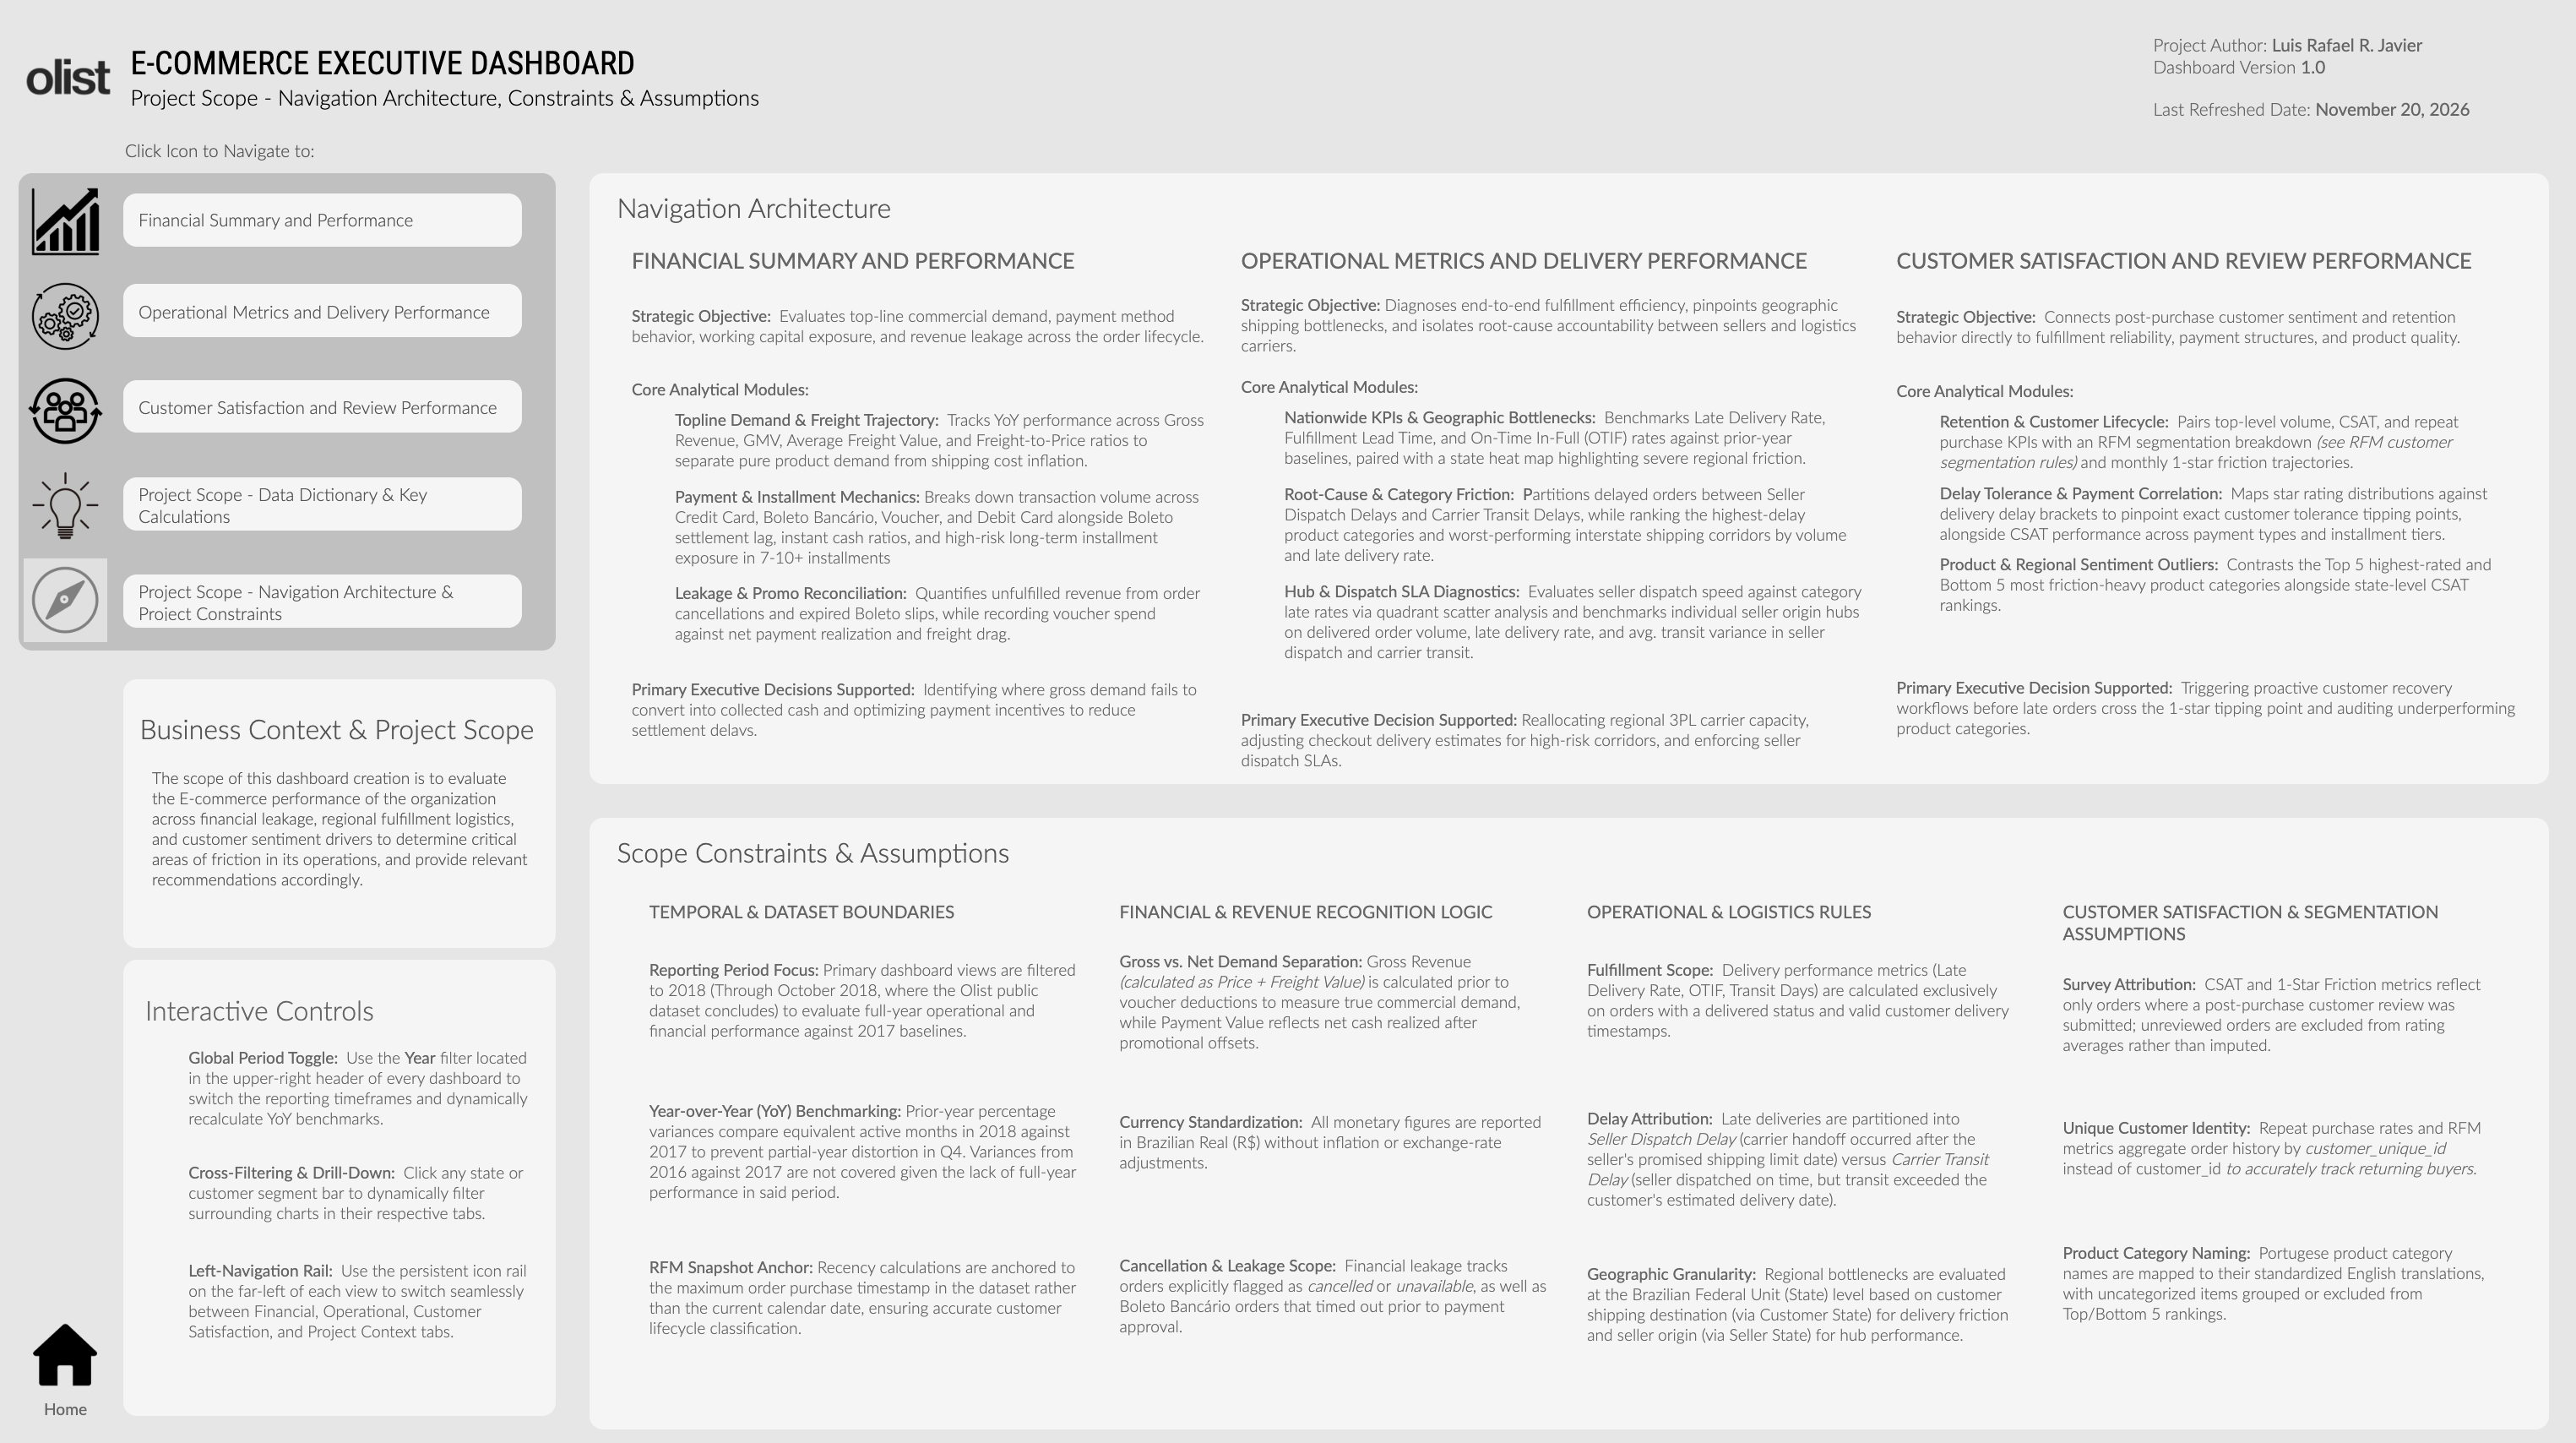

The page's visual inventory and layout, read from the dashboard file:
{"tool":"tableau","page":{"name":"5. Navigation and Constraints","canvas":[1920,1080],"ordinal":5},"visuals":[{"type":"dashboard-object","box":[19.1,20.8,81,80.9]},{"type":"text","box":[100.1,20.8,1497,80.9]},{"type":"text","box":[1597.1,20.8,298.8,80.9]},{"type":"text","box":[100,101,189,30]},{"type":"blank","box":[21,133,398,353]},{"type":"blank","box":[444,133,1450,452]},{"type":"dashboard-object","box":[21,134,70,70]},{"type":"text","box":[464,143,349,30]},{"type":"blank","box":[99,148,295,39]},{"type":"text","box":[110,152,271,30]},{"type":"text","box":[471,183,433,28]},{"type":"text","box":[922,183,468,28]},{"type":"text","box":[1407,183,468,28]},{"type":"dashboard-object","box":[21,204,70,70]},{"type":"text","box":[471,211,433,70]},{"type":"text","box":[922,211,468,68]},{"type":"text","box":[1407,211,468,71]},{"type":"blank","box":[99,215,295,39]},{"type":"text","box":[110,220,271,30]},{"type":"dashboard-object","box":[21,274,70,70]},{"type":"text","box":[922,279,468,23]},{"type":"text","box":[471,281,433,23]},{"type":"text","box":[1407,282,468,23]},{"type":"blank","box":[99,286,295,39]},{"type":"text","box":[110,291,271,30]},{"type":"blank","box":[922,302,32,224]},{"type":"text","box":[954,302,436,53]},{"type":"blank","box":[471,304,32,199]},{"type":"text","box":[503,304,401,53]},{"type":"blank","box":[1407,305,32,197]},{"type":"text","box":[1439,305,436,53]},{"type":"dashboard-object","box":[21,344,70,70]},{"type":"text","box":[954,355,436,76]},{"type":"text","box":[503,357,401,75]},{"type":"blank","box":[99,358,295,39]},{"type":"text","box":[1439,358,436,53]},{"type":"text","box":[110,362,271,30]},{"type":"text","box":[1439,411,436,53]},{"type":"dashboard-object","box":[21,414,70,70]},{"type":"blank","box":[99,430,295,39]},{"type":"text","box":[954,431,436,68]},{"type":"text","box":[503,432,401,53]},{"type":"text","box":[110,434,271,30]},{"type":"blank","box":[21,484,70,488]},{"type":"text","box":[1407,502,468,53]},{"type":"text","box":[471,503,433,50]},{"type":"blank","box":[99,507,320,199]},{"type":"text","box":[111,517,297,53]},{"type":"text","box":[922,526,468,50]},{"type":"text","box":[120,573,279,120]},{"type":"blank","box":[444,610,1450,452]},{"type":"text","box":[464,620,349,30]},{"type":"text","box":[484,667,325,24]},{"type":"text","box":[832,667,325,24]},{"type":"text","box":[1178,667,325,24]},{"type":"text","box":[1530,667,325,40]},{"type":"text","box":[484,691,325,107]},{"type":"text","box":[832,691,325,109]},{"type":"text","box":[1178,691,325,108]},{"type":"text","box":[1530,707,325,97]},{"type":"blank","box":[99,715,320,337]},{"type":"text","box":[111,735,294,33]},{"type":"blank","box":[111,768,32,256]},{"type":"text","box":[143,768,262,83]},{"type":"text","box":[484,798,325,116]},{"type":"text","box":[1178,799,325,125]},{"type":"text","box":[832,800,325,99]},{"type":"text","box":[1530,804,325,99]},{"type":"text","box":[143,851,262,72]},{"type":"text","box":[832,899,325,129]},{"type":"text","box":[1530,903,325,102]},{"type":"text","box":[484,914,325,101]},{"type":"text","box":[143,923,262,89]},{"type":"text","box":[1178,924,325,92]},{"type":"dashboard-object","box":[21,972,70,70]},{"type":"text","box":[21,1032,70,30]}]}

Visuals, with their boxes in screenshot pixels (x1, y1, x2, y2), scaled from the page's 1920x1080 canvas onto the 2576x1443 screenshot:
dashboard-object: <region>25, 28, 134, 136</region>
text: <region>134, 28, 2143, 136</region>
text: <region>2143, 28, 2544, 136</region>
text: <region>134, 135, 388, 175</region>
blank: <region>28, 177, 562, 650</region>
blank: <region>595, 177, 2541, 781</region>
dashboard-object: <region>28, 179, 122, 273</region>
text: <region>622, 191, 1090, 231</region>
blank: <region>133, 198, 529, 250</region>
text: <region>148, 203, 511, 243</region>
text: <region>632, 244, 1213, 282</region>
text: <region>1237, 244, 1865, 282</region>
text: <region>1888, 244, 2516, 282</region>
dashboard-object: <region>28, 273, 122, 366</region>
text: <region>632, 282, 1213, 375</region>
text: <region>1237, 282, 1865, 373</region>
text: <region>1888, 282, 2516, 377</region>
blank: <region>133, 287, 529, 340</region>
text: <region>148, 294, 511, 334</region>
dashboard-object: <region>28, 366, 122, 460</region>
text: <region>1237, 373, 1865, 404</region>
text: <region>632, 375, 1213, 406</region>
text: <region>1888, 377, 2516, 407</region>
blank: <region>133, 382, 529, 434</region>
text: <region>148, 389, 511, 429</region>
blank: <region>1237, 404, 1280, 703</region>
text: <region>1280, 404, 1865, 474</region>
blank: <region>632, 406, 675, 672</region>
text: <region>675, 406, 1213, 477</region>
blank: <region>1888, 407, 1931, 671</region>
text: <region>1931, 407, 2516, 478</region>
dashboard-object: <region>28, 460, 122, 553</region>
text: <region>1280, 474, 1865, 576</region>
text: <region>675, 477, 1213, 577</region>
blank: <region>133, 478, 529, 531</region>
text: <region>1931, 478, 2516, 549</region>
text: <region>148, 483, 511, 524</region>
text: <region>1931, 549, 2516, 620</region>
dashboard-object: <region>28, 553, 122, 646</region>
blank: <region>133, 574, 529, 627</region>
text: <region>1280, 576, 1865, 667</region>
text: <region>675, 577, 1213, 648</region>
text: <region>148, 580, 511, 620</region>
blank: <region>28, 646, 122, 1299</region>
text: <region>1888, 671, 2516, 742</region>
text: <region>632, 672, 1213, 739</region>
blank: <region>133, 678, 562, 944</region>
text: <region>149, 691, 547, 761</region>
text: <region>1237, 703, 1865, 770</region>
text: <region>161, 765, 535, 926</region>
blank: <region>595, 815, 2541, 1419</region>
text: <region>622, 829, 1090, 869</region>
text: <region>649, 891, 1085, 923</region>
text: <region>1117, 891, 1552, 923</region>
text: <region>1580, 891, 2017, 923</region>
text: <region>2052, 891, 2489, 945</region>
text: <region>649, 923, 1085, 1066</region>
text: <region>1117, 923, 1552, 1069</region>
text: <region>1580, 923, 2017, 1068</region>
text: <region>2052, 945, 2489, 1075</region>
blank: <region>133, 956, 562, 1406</region>
text: <region>149, 982, 543, 1026</region>
blank: <region>149, 1026, 192, 1368</region>
text: <region>192, 1026, 543, 1137</region>
text: <region>649, 1066, 1085, 1221</region>
text: <region>1580, 1068, 2017, 1234</region>
text: <region>1117, 1069, 1552, 1201</region>
text: <region>2052, 1075, 2489, 1206</region>
text: <region>192, 1137, 543, 1233</region>
text: <region>1117, 1201, 1552, 1374</region>
text: <region>2052, 1206, 2489, 1342</region>
text: <region>649, 1221, 1085, 1356</region>
text: <region>192, 1233, 543, 1352</region>
text: <region>1580, 1234, 2017, 1358</region>
dashboard-object: <region>28, 1299, 122, 1392</region>
text: <region>28, 1379, 122, 1419</region>
